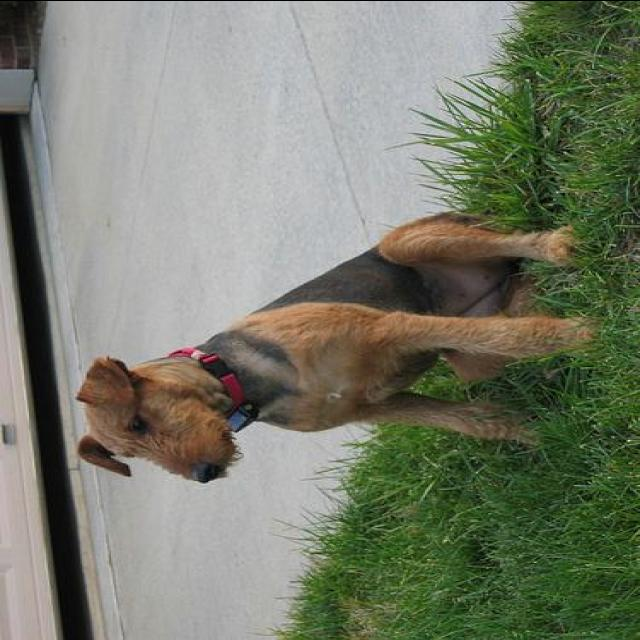airedale: (71, 208, 612, 487)
